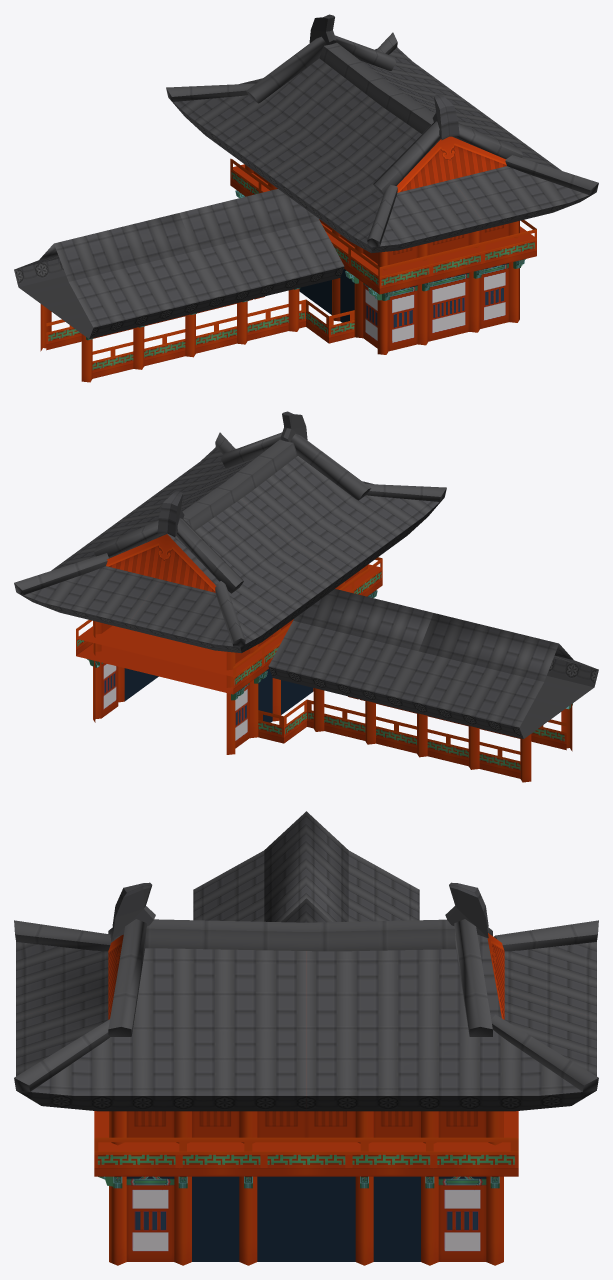
Rendered from Landmark_Woljeonggyo_Bridge.fbx.
3 renders of one model, top to bottom at view 1: azimuth 30°, elevation 25°; view 2: azimuth 150°, elevation 25°; view 3: azimuth 270°, elevation 25°, orthographic. The views are drawn at different scales.
Parts seen in each view (by area): view 1: Landmark_Woljeonggyo_Bridge, Landmark_Woljeonggyo_Bridge_Connection; view 2: Landmark_Woljeonggyo_Bridge, Landmark_Woljeonggyo_Bridge_Connection; view 3: Landmark_Woljeonggyo_Bridge, Landmark_Woljeonggyo_Bridge_Connection.
Part boxes in pixels (<box>): Landmark_Woljeonggyo_Bridge: <box>166,14,598,354</box>; Landmark_Woljeonggyo_Bridge_Connection: <box>14,189,354,382</box>; Landmark_Woljeonggyo_Bridge: <box>14,411,446,754</box>; Landmark_Woljeonggyo_Bridge_Connection: <box>258,589,598,782</box>; Landmark_Woljeonggyo_Bridge: <box>14,882,598,1265</box>; Landmark_Woljeonggyo_Bridge_Connection: <box>193,811,419,922</box>.
Bounding box in the file's own units: 3705 × 1868 × 2987.
